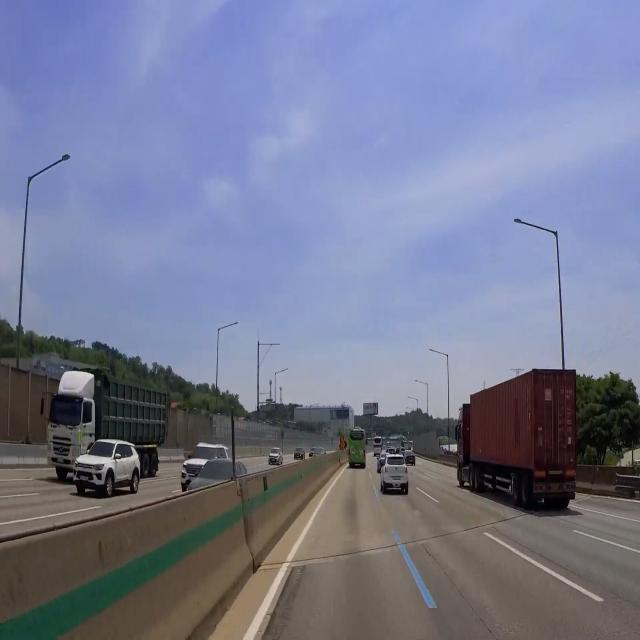car: (545, 479, 561, 499), (79, 472, 93, 488), (390, 472, 403, 488), (52, 455, 68, 467)
